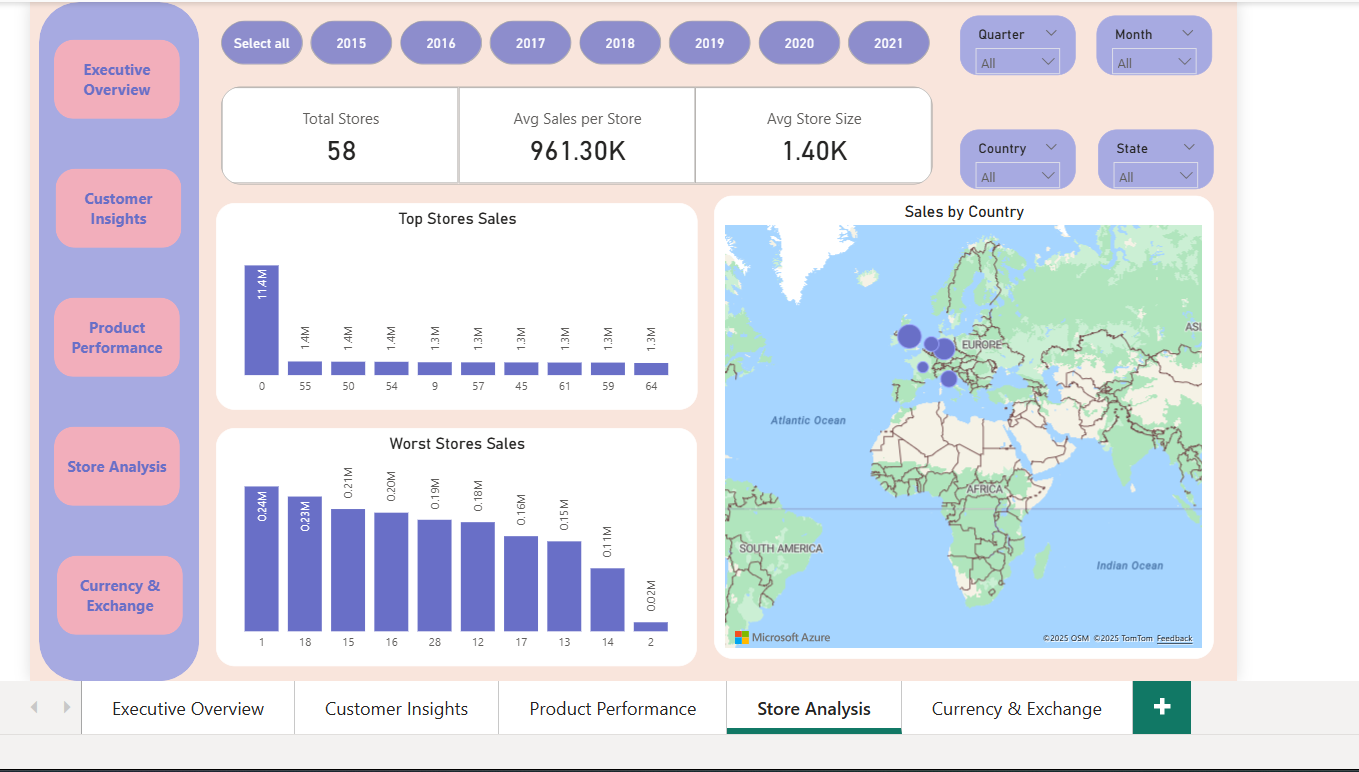

What the dashboard file says about the page in this screenshot:
{"tool":"powerbi","page":{"name":"Store Analysis","canvas":[1280,720],"ordinal":3},"visuals":[{"type":"group","id":"g1","title":"Group 3","box":[10,0,170,720.4],"z":0},{"type":"actionButton","box":[28.4,177.4,133.6,84.3],"z":0,"group":"g2"},{"type":"cardVisual","fields":{"Data":["Sales.Total Stores","Sales.Sales per Store","Stores.Avg Store Size"]},"box":[197.2,84.3,765.1,114.5],"z":1000},{"type":"actionButton","box":[26.7,314.3,133.6,84.3],"z":1000,"group":"g2"},{"type":"shape","box":[10,0,170,720.4],"z":2000,"group":"g1"},{"type":"slicer","fields":{"Values":["Stores.Country"]},"box":[986.2,135.2,122.5,63.6],"z":2000},{"type":"actionButton","box":[26.7,451.3,133.6,84.3],"z":2000,"group":"g2"},{"type":"slicer","fields":{"Values":["Stores.State"]},"box":[1132.5,135.2,122.5,63.6],"z":3000},{"type":"actionButton","box":[30.1,588.2,133.6,84.3],"z":3000,"group":"g2"},{"type":"columnChart","title":"Top Stores Sales","fields":{"Category":["Stores.StoreKey"],"Y":["Sales.Total Sales (USD)"]},"box":[197.2,213.1,510.6,219.5],"z":4000},{"type":"azureMap","title":"Sales by Country","fields":{"Category":["Stores.Country"],"Size":["Sales.Total Sales (USD)"]},"box":[725.3,205.2,529.7,491.5],"z":5000},{"type":"columnChart","title":"Worst Stores Sales","fields":{"Category":["Stores.StoreKey"],"Y":["Sales.Total Sales (USD)"]},"box":[197.5,451.8,510.1,252.6],"z":6000},{"type":"advancedSlicerVisual","fields":{"Values":["Date.Year"]},"box":[197.2,14.3,765.1,57.3],"z":7000},{"type":"actionButton","box":[26.7,40.5,133.6,84.3],"z":7001,"group":"g3"},{"type":"group","id":"g2","title":"Group 1","box":[26.7,177.4,137,495.1],"z":7006,"group":"g3"},{"type":"group","id":"g3","title":"Group 2","box":[26.7,40.5,137,632],"z":7007,"group":"g1"},{"type":"slicer","fields":{"Values":["Date.Month"]},"box":[1130.9,14.3,122.5,63.6],"z":8000},{"type":"slicer","fields":{"Values":["Date.Quarter"]},"box":[985.4,14.3,122.5,63.6],"z":9000}]}

Visuals, with their boxes on the page's 1280x720 design canvas (x1, y1, x2, y2). These are canvas units, not pixel positions in the 1359x772 screenshot, which may show the page scaled, cropped or inside an application window:
"Group 3" group: detection(10, 0, 180, 720)
actionButton: detection(28, 177, 162, 262)
cardVisual - Sales.Total Stores x Sales.Sales per Store: detection(197, 84, 962, 199)
actionButton: detection(27, 314, 160, 399)
shape: detection(10, 0, 180, 720)
slicer - Stores.Country: detection(986, 135, 1109, 199)
actionButton: detection(27, 451, 160, 536)
slicer - Stores.State: detection(1132, 135, 1255, 199)
actionButton: detection(30, 588, 164, 672)
"Top Stores Sales" columnChart: detection(197, 213, 708, 433)
"Sales by Country" azureMap: detection(725, 205, 1255, 697)
"Worst Stores Sales" columnChart: detection(198, 452, 708, 704)
advancedSlicerVisual - Date.Year: detection(197, 14, 962, 72)
actionButton: detection(27, 40, 160, 125)
"Group 1" group: detection(27, 177, 164, 672)
"Group 2" group: detection(27, 40, 164, 672)
slicer - Date.Month: detection(1131, 14, 1253, 78)
slicer - Date.Quarter: detection(985, 14, 1108, 78)
